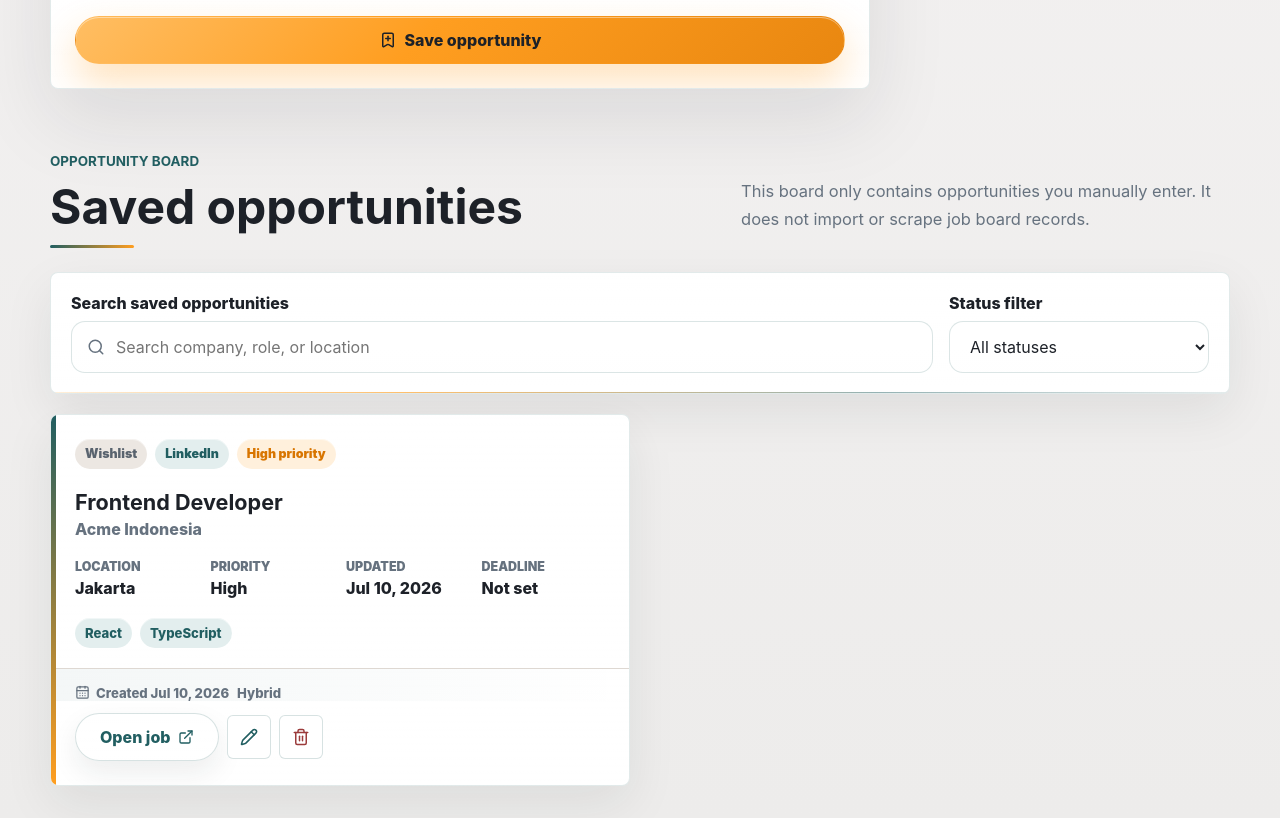
SavedPage › updates opportunity status and notes
(page scrolled)
expect the heading "Frontend Developer" is shown: met, box [75,488,283,514]
Click the button named "Edit Frontend Developer" at [250, 736], box [228,714,272,758]
(page scrolled)
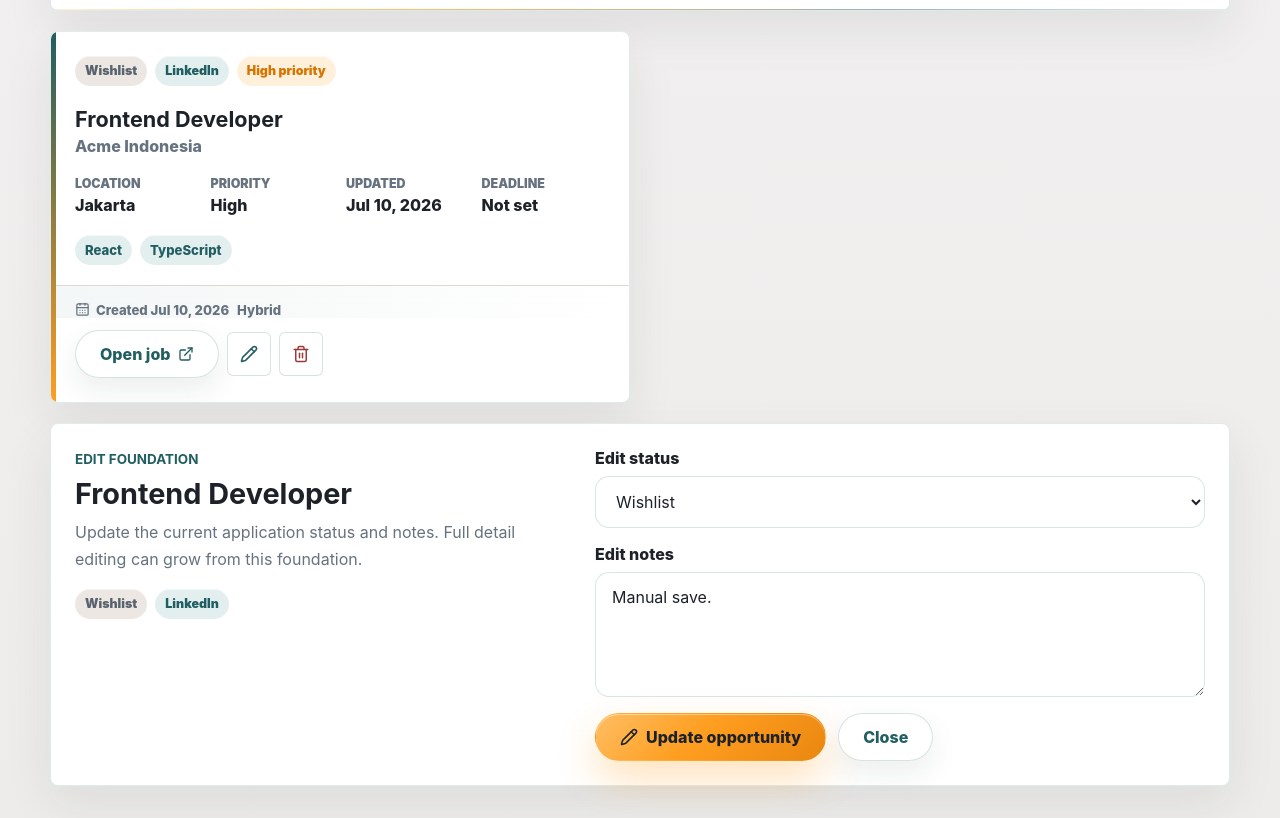
Select "Interview" in the dropdown labelled "Edit status" at [900, 502], box [595,476,1205,528]
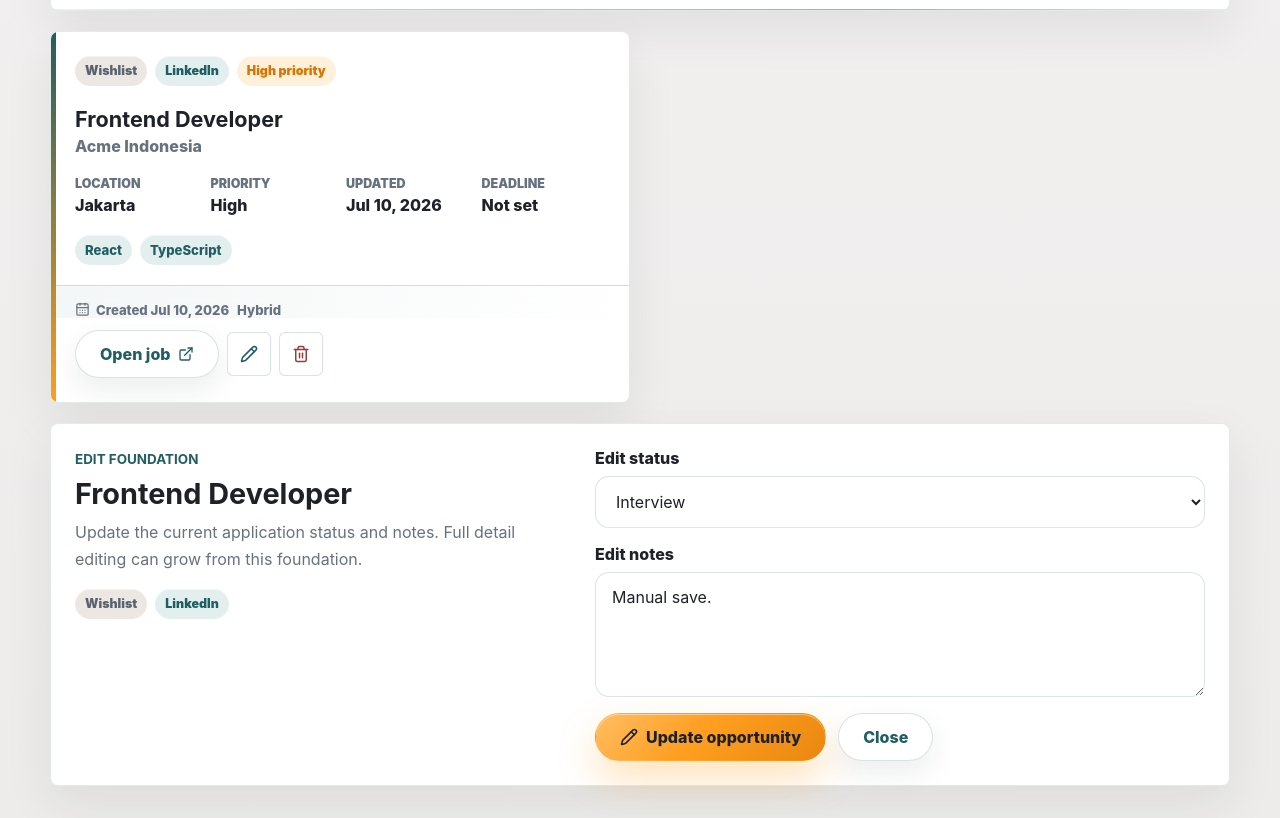
Replace the text in the text box labelled "Edit notes" with "Technical interview scheduled." at [900, 634], box [595,572,1205,697]
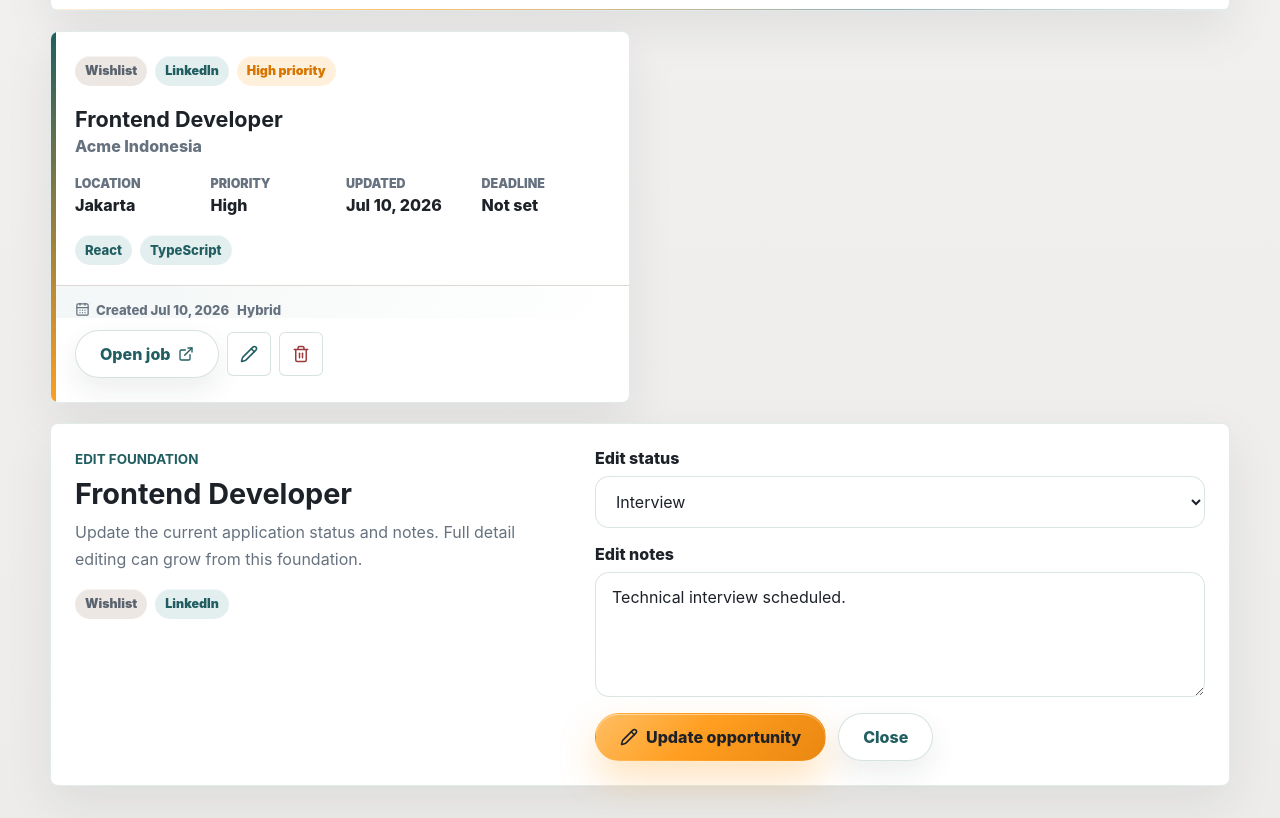
Click the button "Update opportunity" at [711, 737], box [595,713,826,761]
(page scrolled)
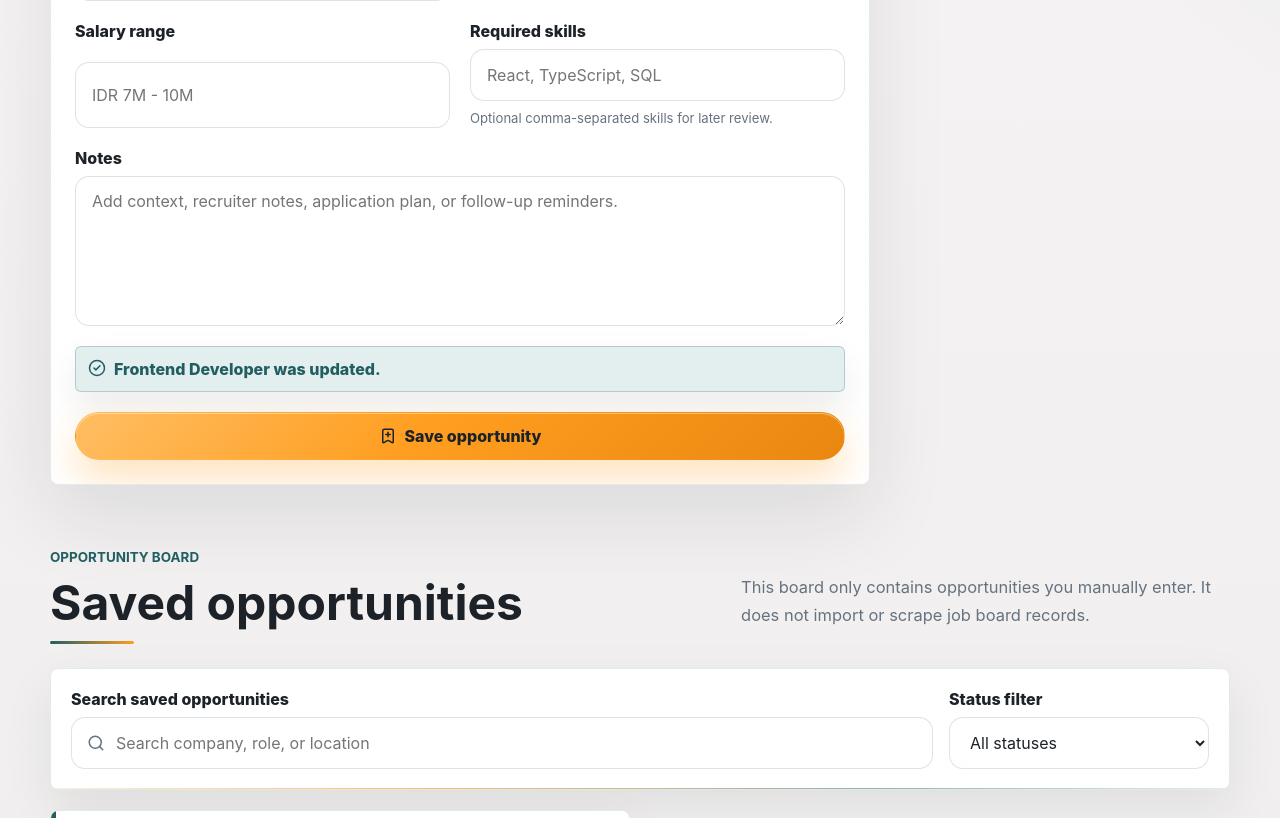
expect the text "Frontend Developer was updated." is shown: met, box [114,359,381,379]
